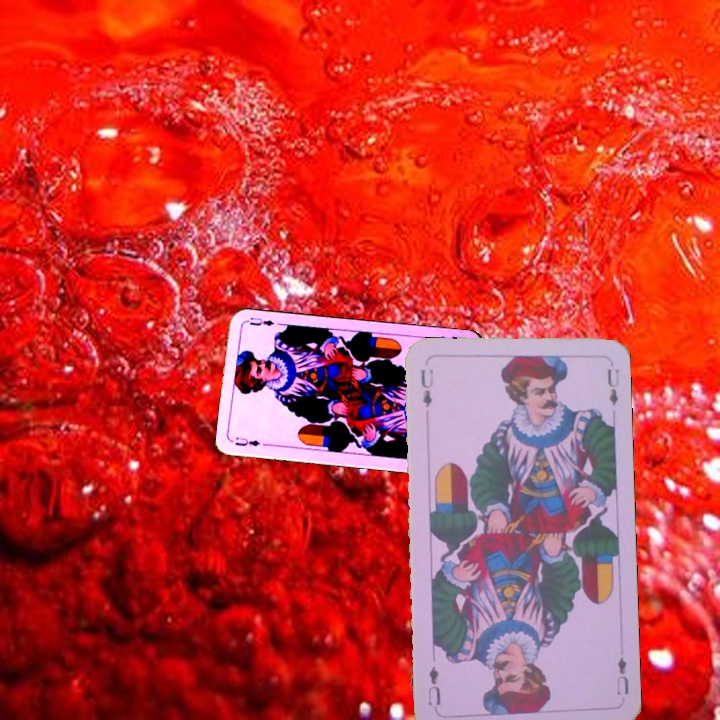EU: (612, 653, 632, 698), (416, 365, 436, 410), (231, 433, 263, 449)
